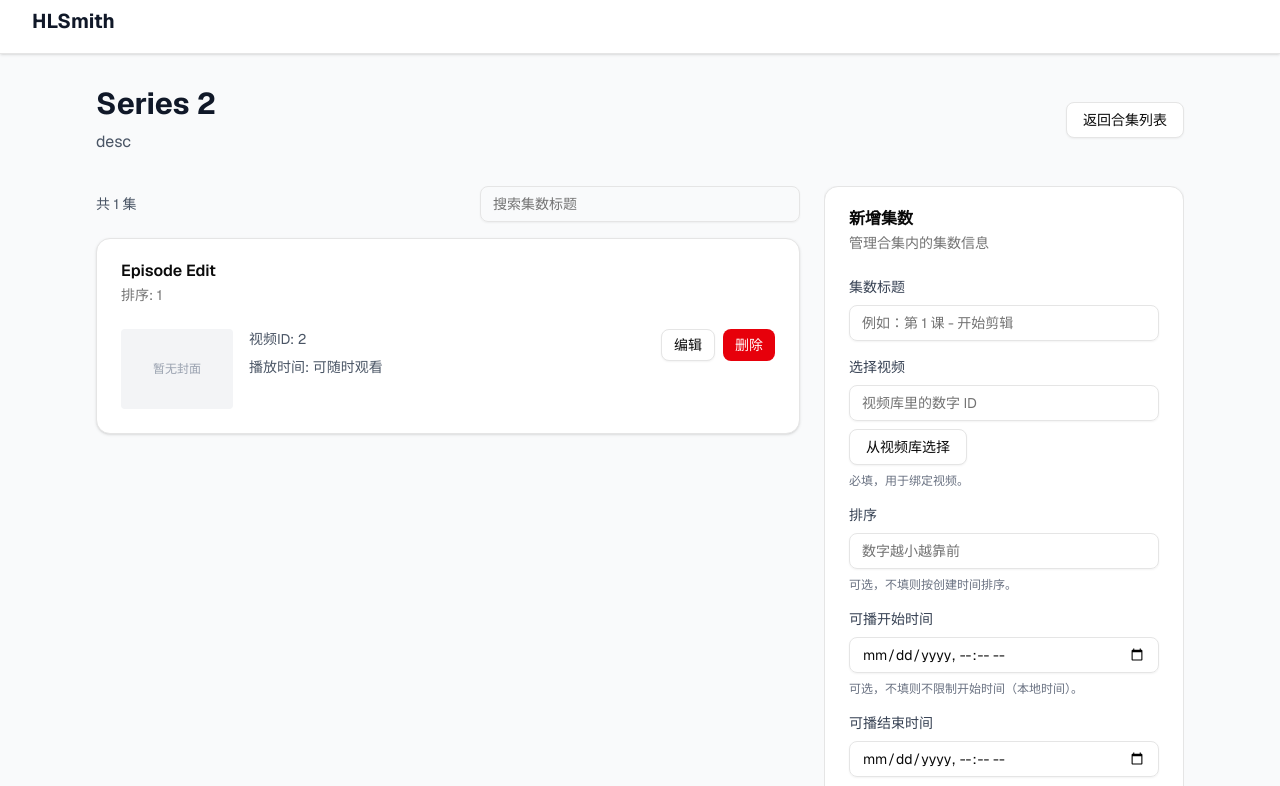
Test case: CollectionDetailPage › updates and deletes item successfully
The image size is (1280, 786).
Expected: the text "Episode Edit" is shown, [121, 260, 216, 281]
Click the button "编辑": x=688, y=345 [661, 329, 715, 361]
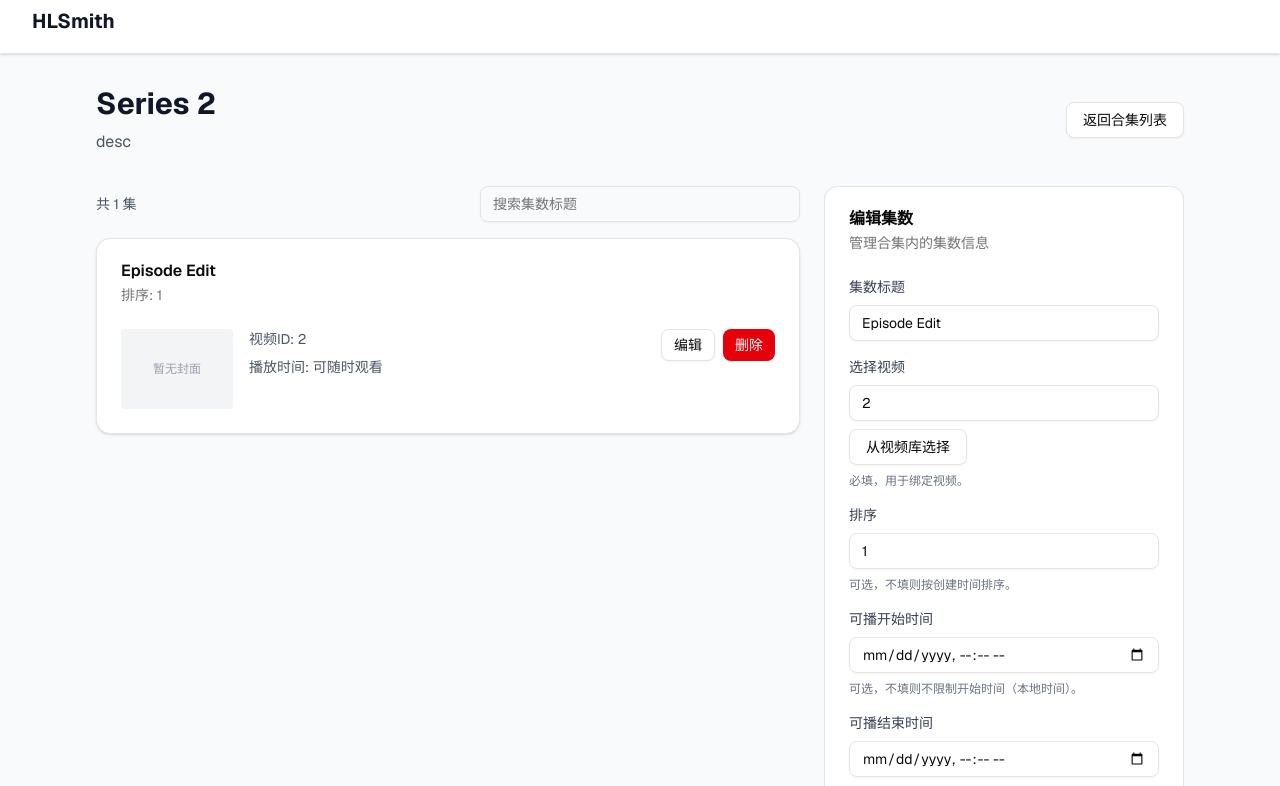
Replace the text in the field labelled "集数标题" with "Episode Updated": x=1004, y=323 [849, 305, 1159, 341]
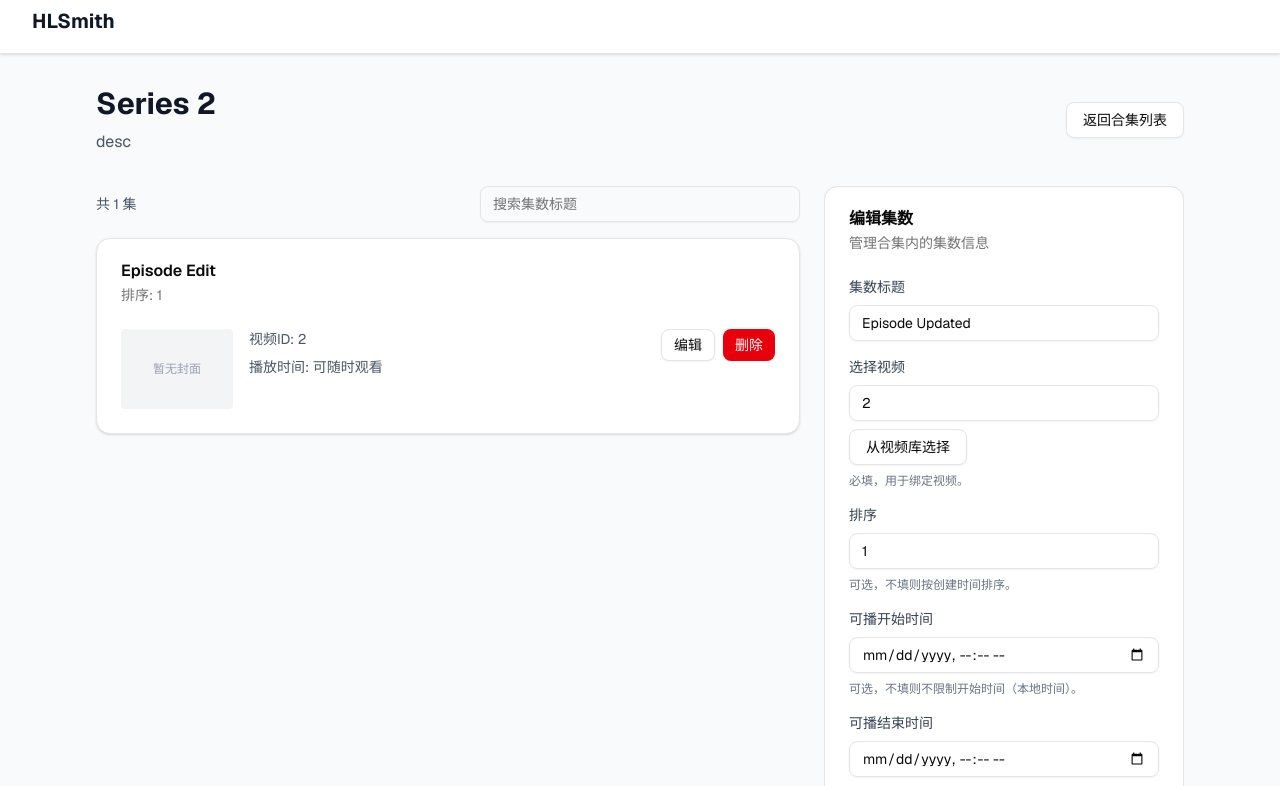
Replace the text in the number field labelled "选择视频" with "5": x=1004, y=403 [849, 385, 1159, 421]
(page scrolled)
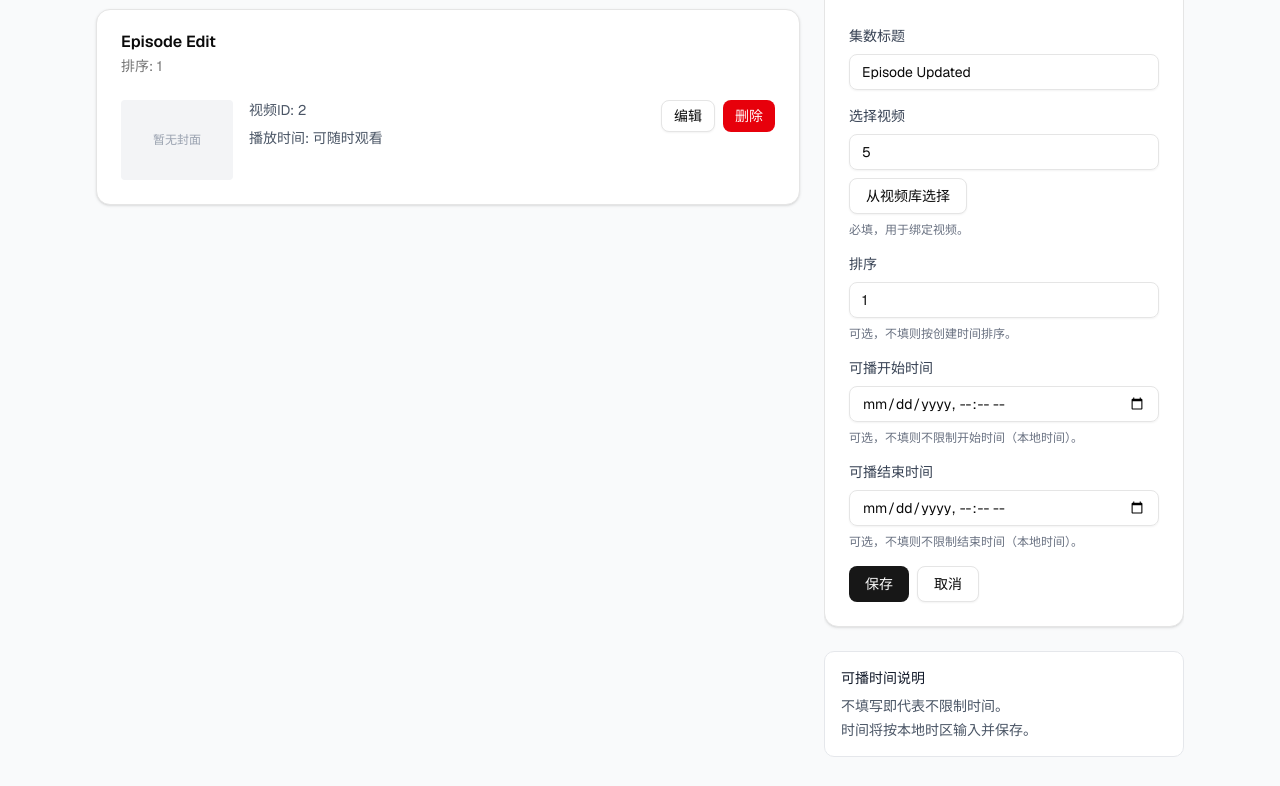
Click the button "保存": x=879, y=584 [849, 566, 909, 602]
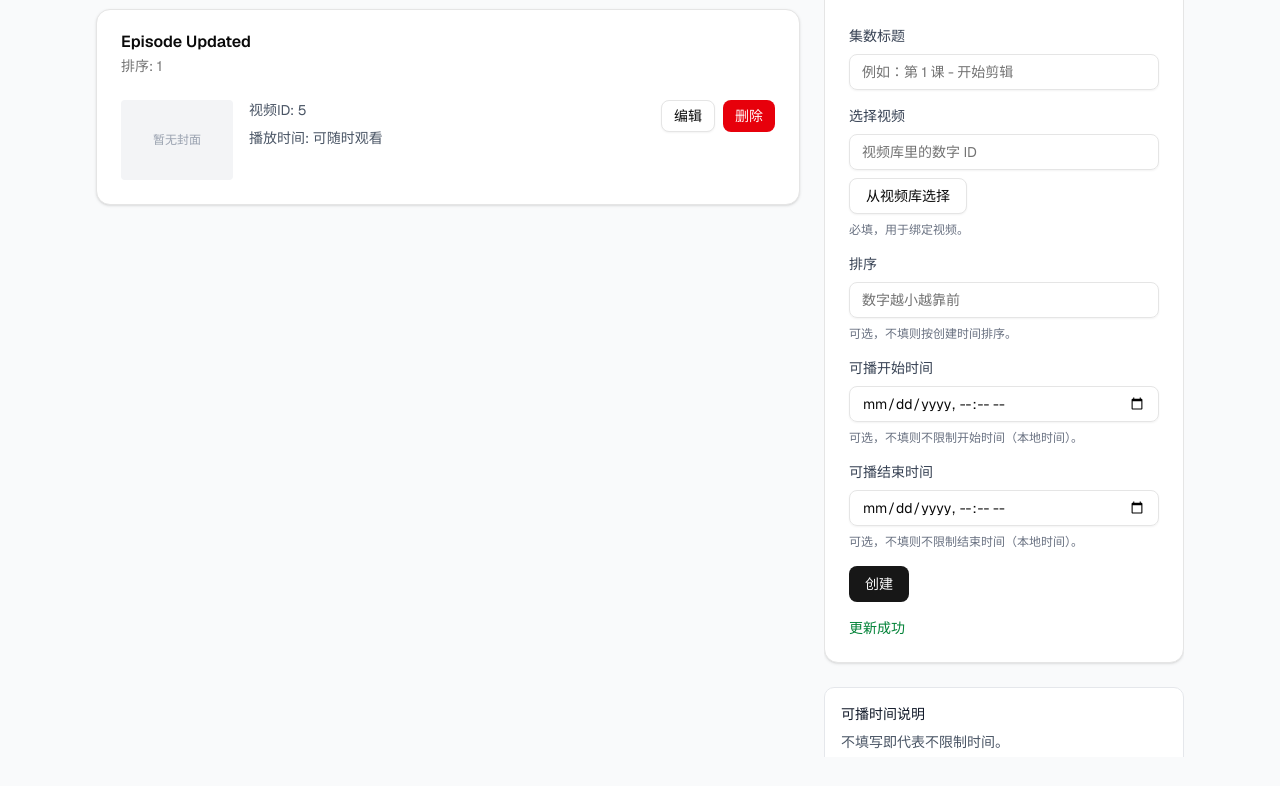
Expected: the text "更新成功" is shown, [849, 619, 905, 637]
Expected: the text "Episode Updated" is shown, [121, 31, 251, 52]
Click the button "删除": x=749, y=116 [723, 100, 775, 132]
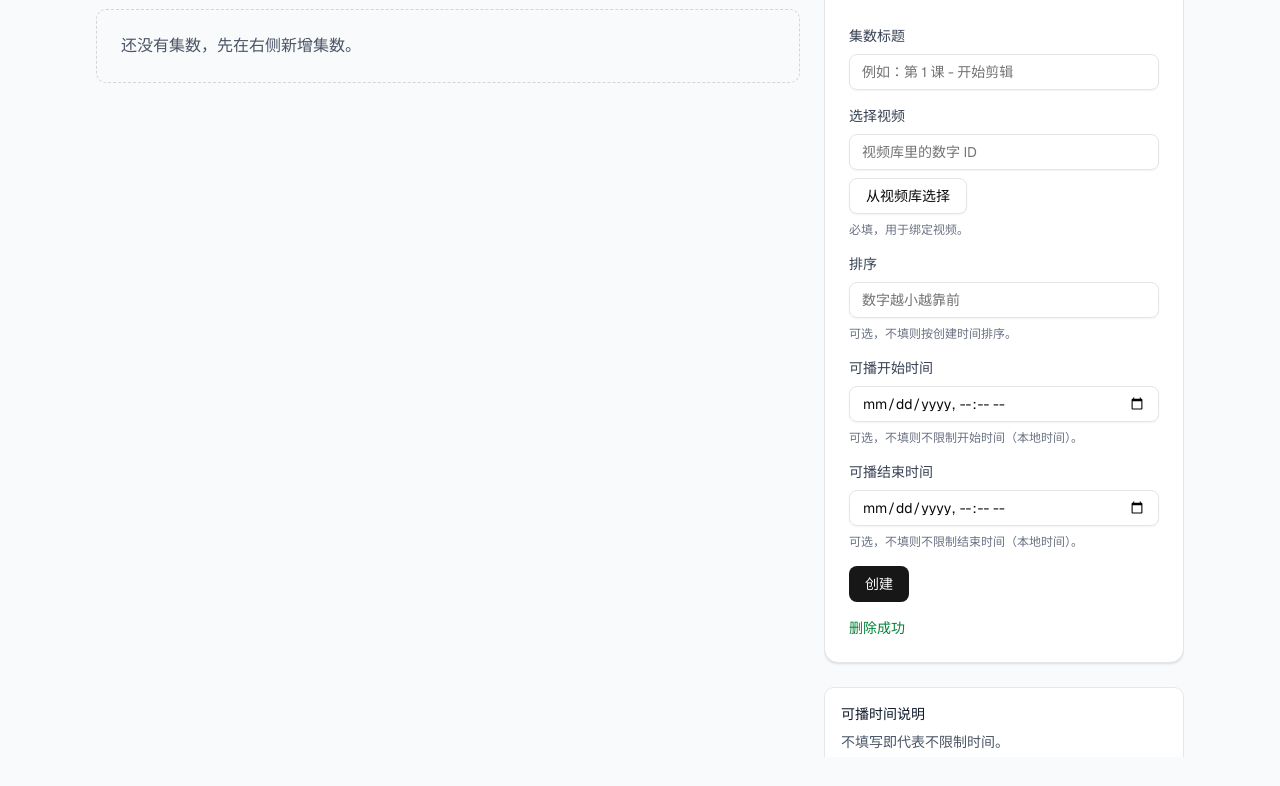
Expected: the text "删除成功" is shown, [849, 619, 905, 637]
Expected: the text "Episode Updated" is gone
